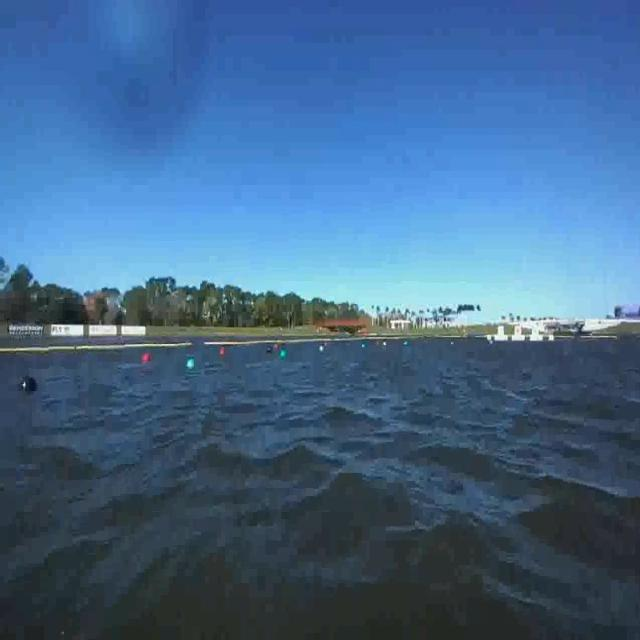black-buoy: (13, 374, 48, 399)
green-buoy: (186, 356, 195, 371)
red-buoy: (142, 353, 151, 361)
